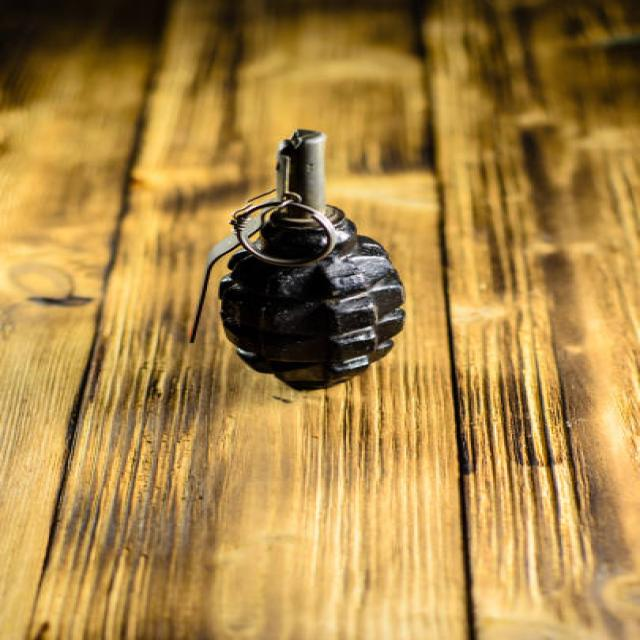grenade: (185, 126, 419, 391)
